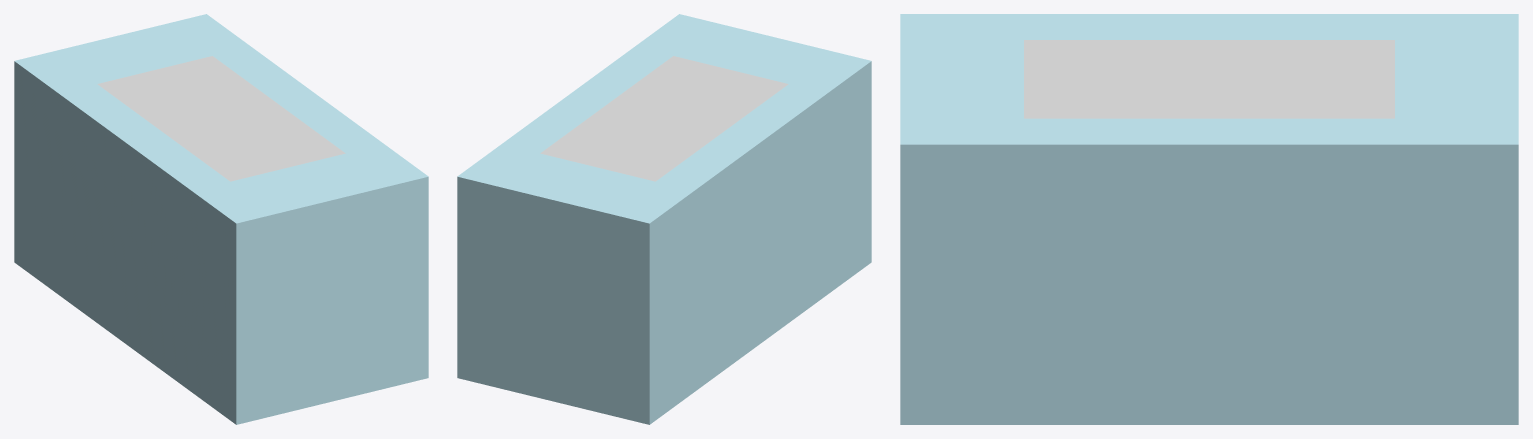
3 views of the same model, side by side, from view 1: azimuth 30°, elevation 25°; view 2: azimuth 150°, elevation 25°; view 3: azimuth 270°, elevation 25° (orthographic). The views are drawn at different scales.
Parts seen in each view (by area): view 1: Cube; view 2: Cube; view 3: Cube.
Part boxes in pixels (x1,y1,x2,y2): Cube: [14, 14, 428, 424]; Cube: [457, 14, 871, 424]; Cube: [900, 14, 1518, 424].
Size of the model in its own units: 400 by 400 by 800.
